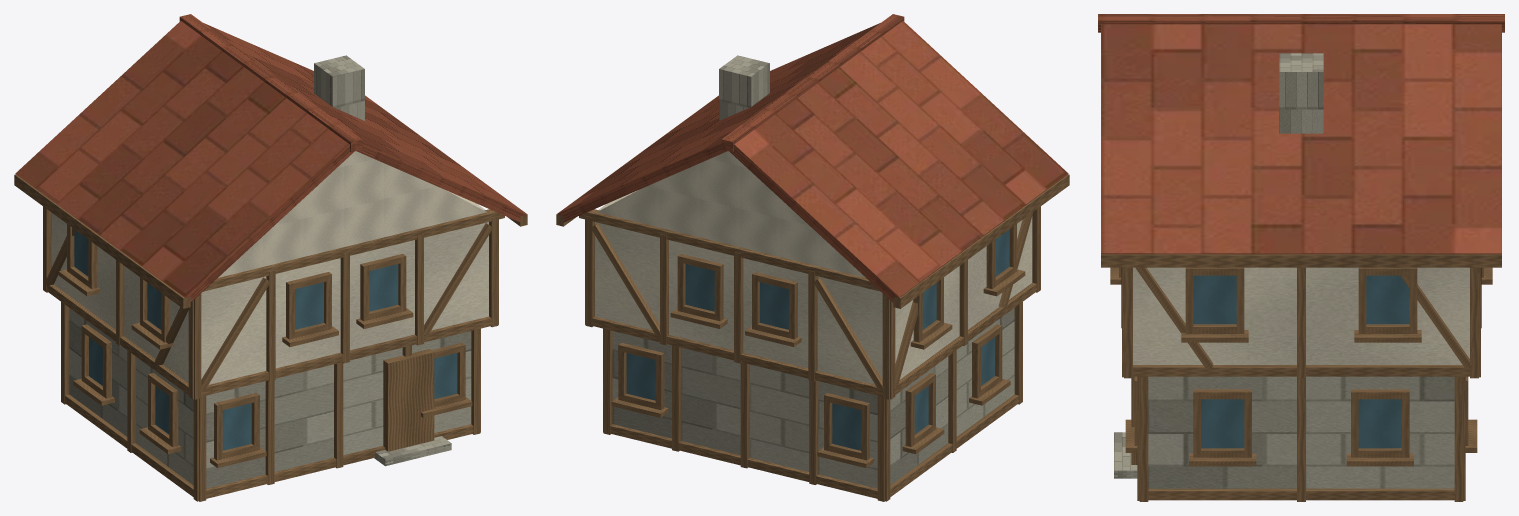
The picture shows the model from 3 angles, left to right: view 1: azimuth 30°, elevation 25°; view 2: azimuth 150°, elevation 25°; view 3: azimuth 270°, elevation 25°; orthographic projection. The views are drawn at different scales.
Parts seen in each view (by area): view 1: house-roof, house-wood, house-plaster, house-stone, house-glass; view 2: house-roof, house-wood, house-plaster, house-stone, house-glass; view 3: house-roof, house-wood, house-stone, house-plaster, house-glass.
Boxes of the visible parts, x1,y1,x2,y2 form: house-roof: (15,14,526,302); house-wood: (14,95,527,501); house-plaster: (51,151,488,384); house-stone: (69,55,471,488); house-glass: (74,231,457,450); house-roof: (557,14,1068,302); house-wood: (556,95,1069,501); house-plaster: (595,151,1032,384); house-stone: (612,55,1014,488); house-glass: (626,229,1009,450); house-roof: (1098,14,1504,254); house-wood: (1101,254,1501,501); house-stone: (1114,53,1454,488); house-plaster: (1133,267,1469,364); house-glass: (1193,275,1409,448).
Size of the model in its own units: 8.54 by 8.03 by 7.36.
Materials: 5 (5 with a texture image).
